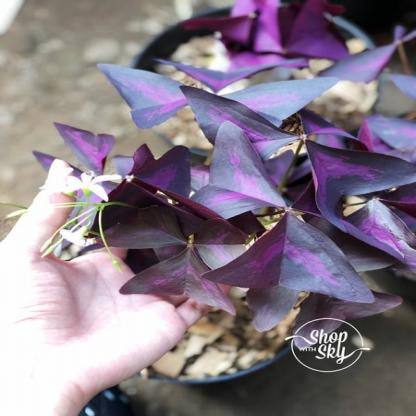Kupu-Kupu: (231, 150, 389, 313), (94, 45, 322, 131), (197, 109, 416, 197), (135, 185, 240, 319)
